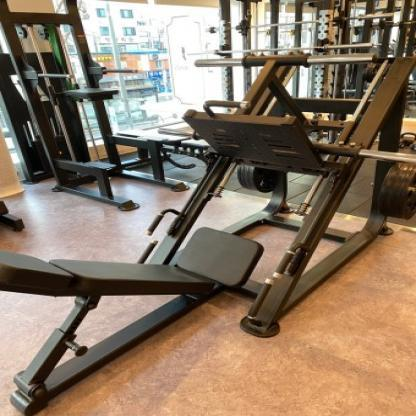leg press: (0, 46, 416, 416)
